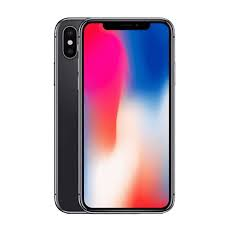iphone: (51, 15, 175, 214)
iphone10: (52, 15, 176, 214)
